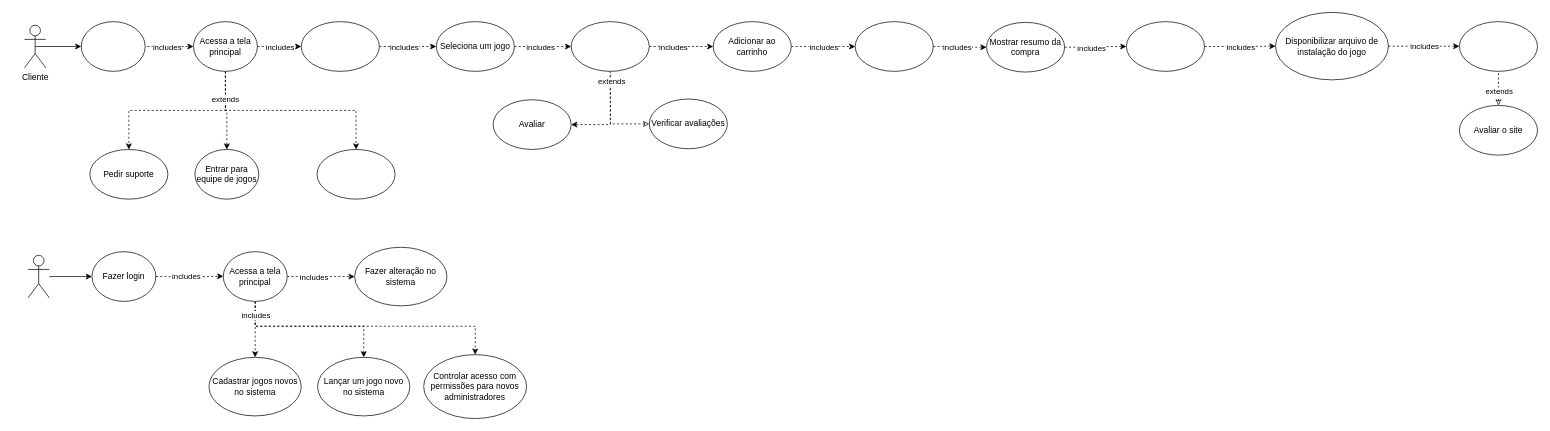
Some shapes in this 1550 by 431 pixel diagram are drawn without their labels. Each missing label, with the centre of its shape:
"Administrador" goes at pixel 38 276.
"Escolher método de pagamento" goes at pixel 893 46.
"Fazer login/cadastro" goes at pixel 113 46.
"Finalizar operação" goes at pixel 1498 46.
"Pagar" goes at pixel 1165 46.
"Verifica informações do jogo" goes at pixel 609 46.
"Verificar histórico de compras" goes at pixel 355 174.
"Visualiza jogos disponíveis para compra" goes at pixel 340 46.
